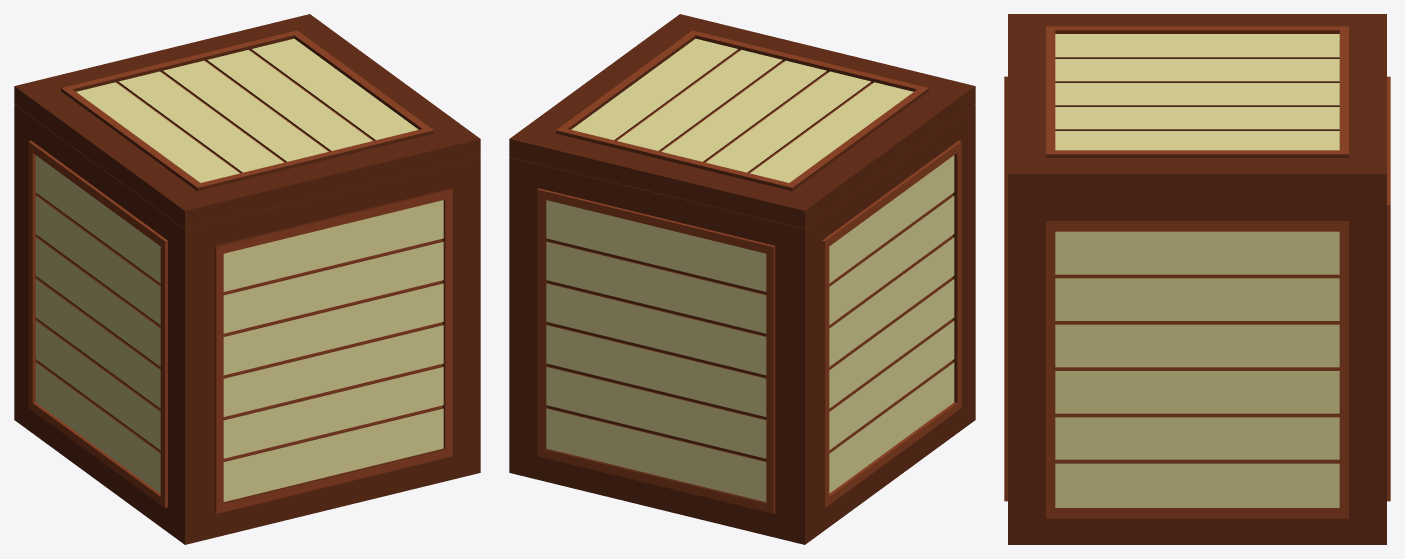
Rendered from Ingredient Box.fbx.
The picture shows the model from 3 angles, left to right: view 1: azimuth 30°, elevation 25°; view 2: azimuth 150°, elevation 25°; view 3: azimuth 270°, elevation 25°; orthographic projection. The views are drawn at different scales.
Parts seen in each view (by area): view 1: IngredientBox, IngredientBox.001; view 2: IngredientBox, IngredientBox.001; view 3: IngredientBox, IngredientBox.001.
Part boxes in pixels (left/top/right/bottom): IngredientBox: left=14, top=104, right=480, bottom=544; IngredientBox.001: left=14, top=14, right=480, bottom=228; IngredientBox: left=509, top=104, right=975, bottom=544; IngredientBox.001: left=509, top=14, right=975, bottom=228; IngredientBox: left=1004, top=76, right=1390, bottom=544; IngredientBox.001: left=1008, top=14, right=1386, bottom=194.
Size of the model in its own units: 75 by 75 by 80.18.
